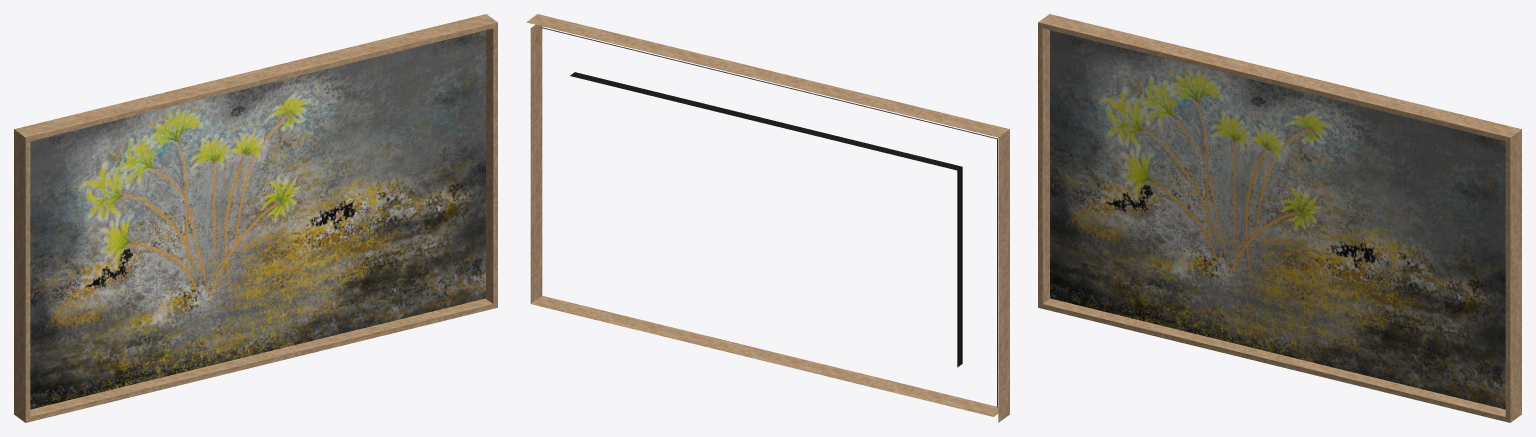
The model's file is hz072_moyen_caisse-chene.glb.
3 renders of one model, left to right at view 1: azimuth 30°, elevation 25°; view 2: azimuth 150°, elevation 25°; view 3: azimuth 330°, elevation 25°, orthographic.
Parts seen in each view (by area): view 1: hz072_moyen_caisse-chene; view 2: hz072_moyen_caisse-chene; view 3: hz072_moyen_caisse-chene.
Part boxes in pixels (<box>): hz072_moyen_caisse-chene: <box>14,14,497,422</box>; hz072_moyen_caisse-chene: <box>526,14,1009,422</box>; hz072_moyen_caisse-chene: <box>1038,14,1521,422</box>.
Size of the model in its own units: 0.828 by 0.478 by 0.035.
Materials: 4 (2 with a texture image).
